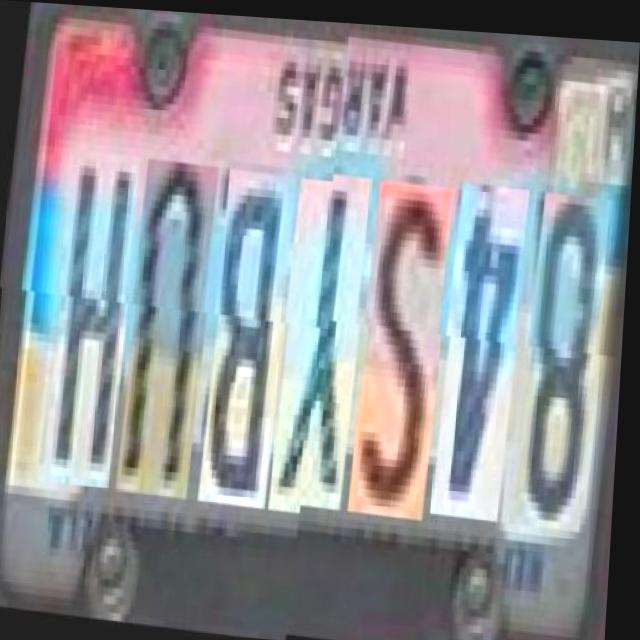4: (431, 177, 527, 517)
8: (513, 185, 609, 525)
b: (200, 161, 296, 501)
h: (42, 147, 138, 486)
s: (349, 176, 452, 516)
u: (117, 154, 217, 493)
y: (269, 169, 370, 508)
